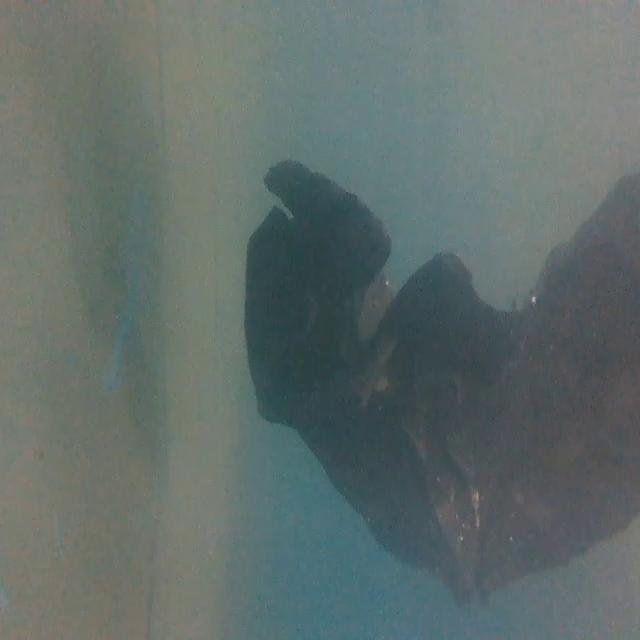plastic bags: (242, 159, 640, 612)
